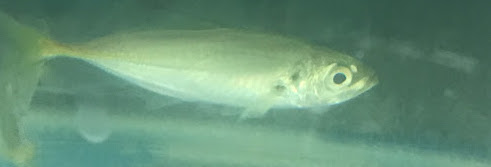azi: (2, 14, 380, 117)
